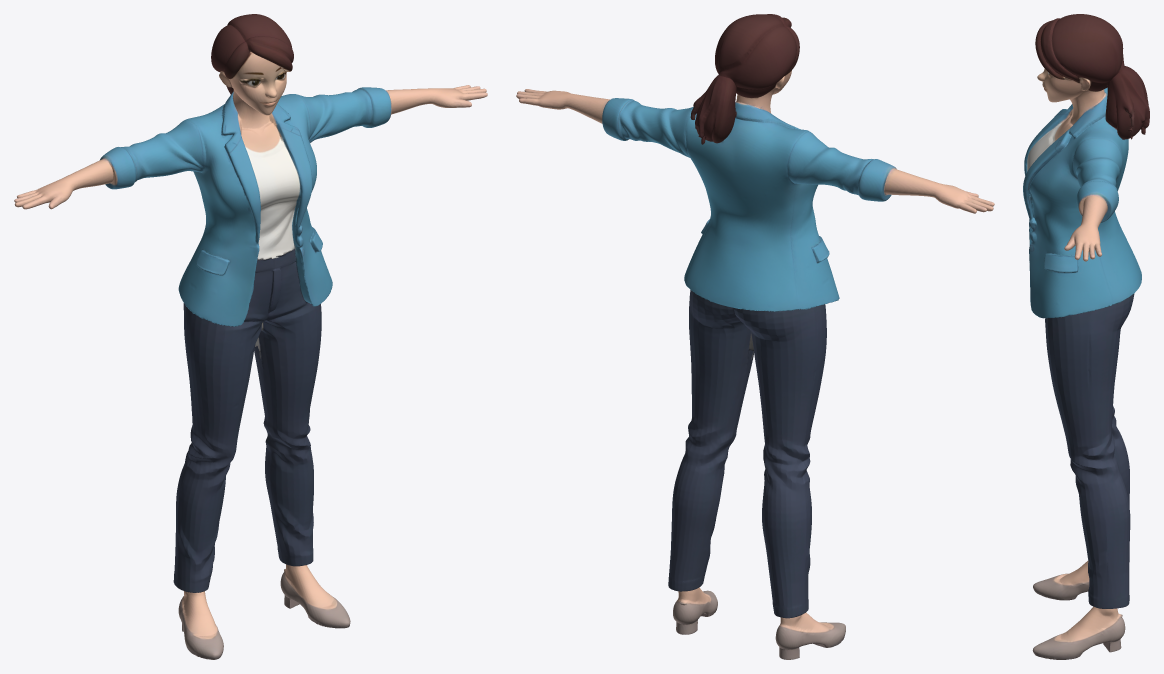
Rendered from cristina_mesh.glb.
The picture shows the model from 3 angles, left to right: view 1: azimuth 30°, elevation 25°; view 2: azimuth 150°, elevation 25°; view 3: azimuth 270°, elevation 25°; orthographic projection. The views are drawn at different scales.
Parts seen in each view (by area): view 1: tripo_node_5cc40729-f956-4be7-9b7f-48c2f5061ded; view 2: tripo_node_5cc40729-f956-4be7-9b7f-48c2f5061ded; view 3: tripo_node_5cc40729-f956-4be7-9b7f-48c2f5061ded.
Boxes of the visible parts, x1,y1,x2,y2 form: tripo_node_5cc40729-f956-4be7-9b7f-48c2f5061ded: [14, 14, 487, 659]; tripo_node_5cc40729-f956-4be7-9b7f-48c2f5061ded: [516, 14, 994, 659]; tripo_node_5cc40729-f956-4be7-9b7f-48c2f5061ded: [1023, 14, 1149, 659].
Bounding box in the file's own units: 0.8097 × 1 × 0.1908.
Materials: 1 (1 with a texture image).
